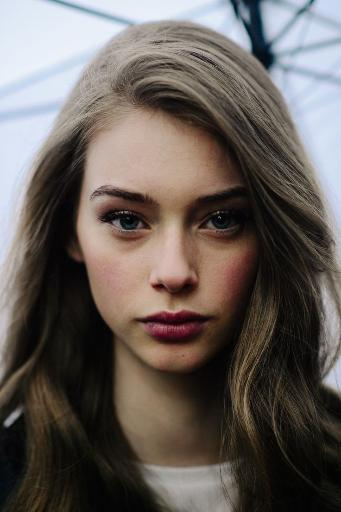left_eye: (196, 209, 246, 240)
left_lip_corner: (204, 310, 218, 332)
right_eye: (101, 210, 153, 241)
right_lip_corner: (131, 312, 147, 333)
